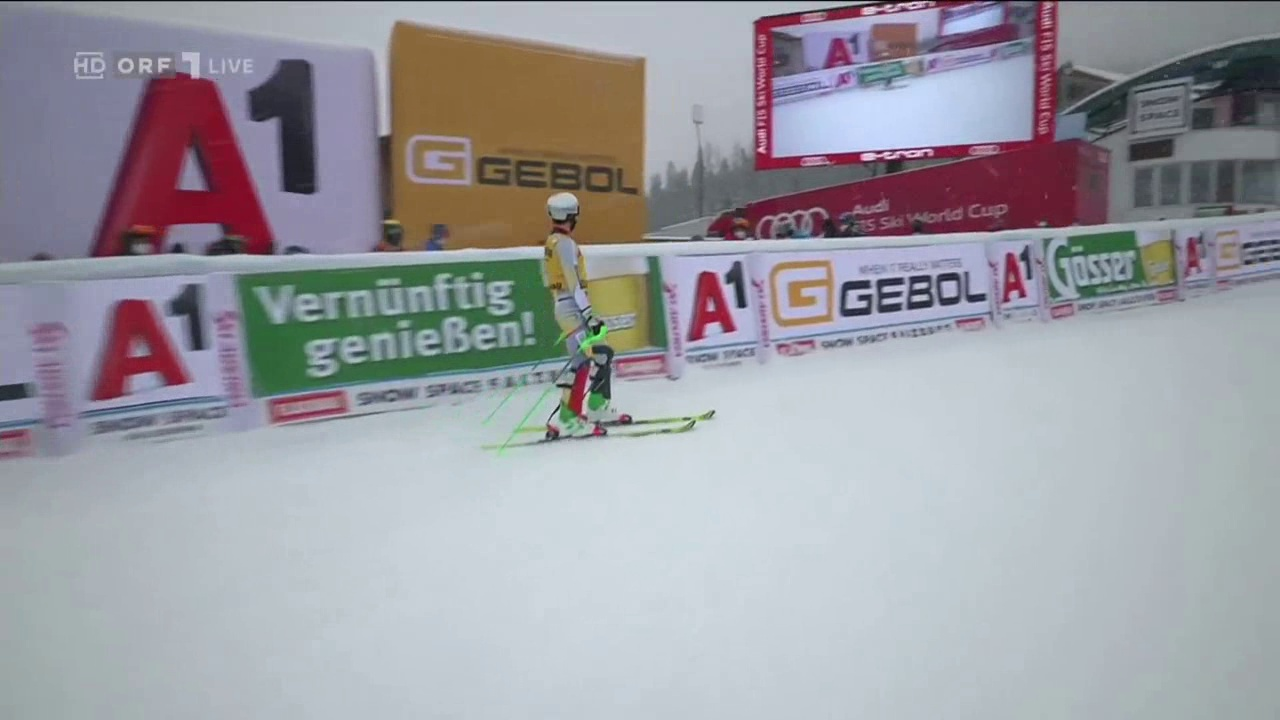a1: (60, 48, 364, 251), (96, 287, 218, 401), (680, 264, 760, 346), (991, 247, 1045, 307), (821, 33, 869, 69)
audi: (759, 208, 833, 241)
etron: (856, 146, 944, 165)
goesser: (1050, 233, 1164, 296)
